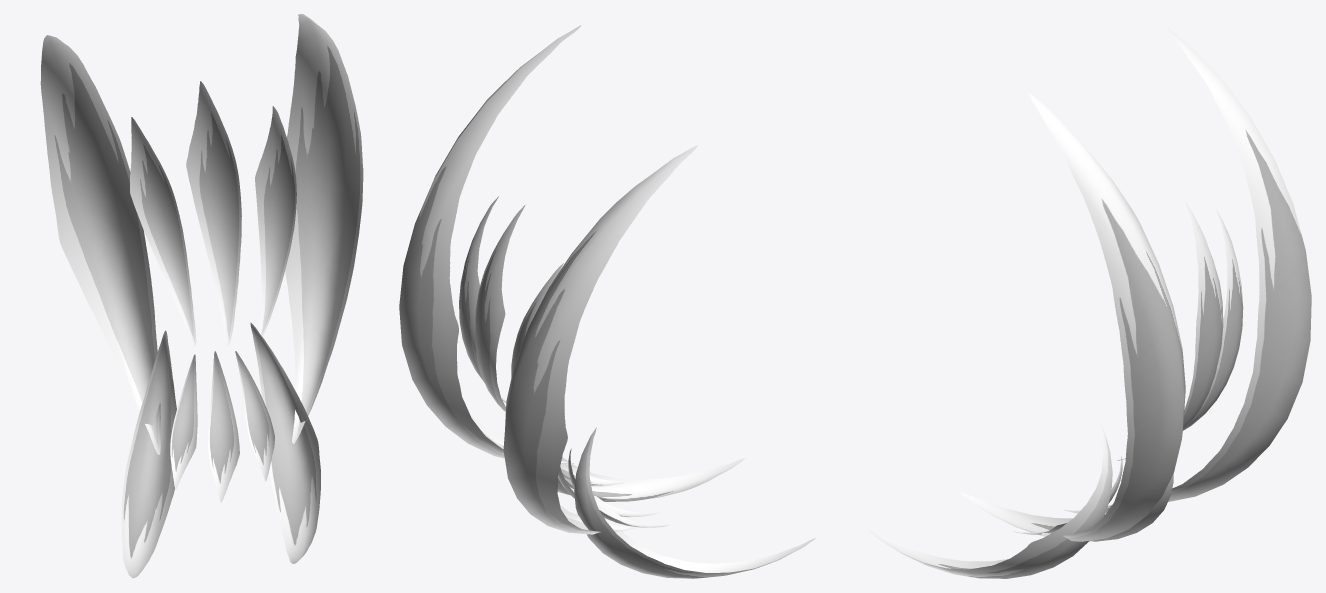
Rendered from fx_m10207_skill02.fbx.
3 views of the same model, side by side, from view 1: azimuth 30°, elevation 25°; view 2: azimuth 150°, elevation 25°; view 3: azimuth 270°, elevation 25° (orthographic).
Parts seen in each view (by area): view 1: trail_alpha_out, trail_alpha, trail_bottom_out_alpha, trail_bottom_alpha; view 2: trail_alpha_out, trail_bottom_out_alpha, trail_alpha, trail_bottom_alpha; view 3: trail_alpha_out, trail_bottom_out_alpha, trail_alpha.
Boxes of the visible parts, bbox=[...] form: trail_alpha_out: bbox=[40, 14, 363, 454]; trail_alpha: bbox=[130, 81, 296, 346]; trail_bottom_out_alpha: bbox=[121, 323, 320, 578]; trail_bottom_alpha: bbox=[170, 351, 274, 502]; trail_alpha_out: bbox=[399, 25, 697, 534]; trail_bottom_out_alpha: bbox=[557, 427, 815, 578]; trail_alpha: bbox=[459, 196, 563, 411]; trail_bottom_alpha: bbox=[558, 448, 669, 527]; trail_alpha_out: bbox=[1028, 27, 1311, 541]; trail_bottom_out_alpha: bbox=[868, 422, 1173, 578]; trail_alpha: bbox=[1117, 202, 1243, 460].
Size of the model in its own units: 330 by 490 by 385.
2 materials, 2 textured.
